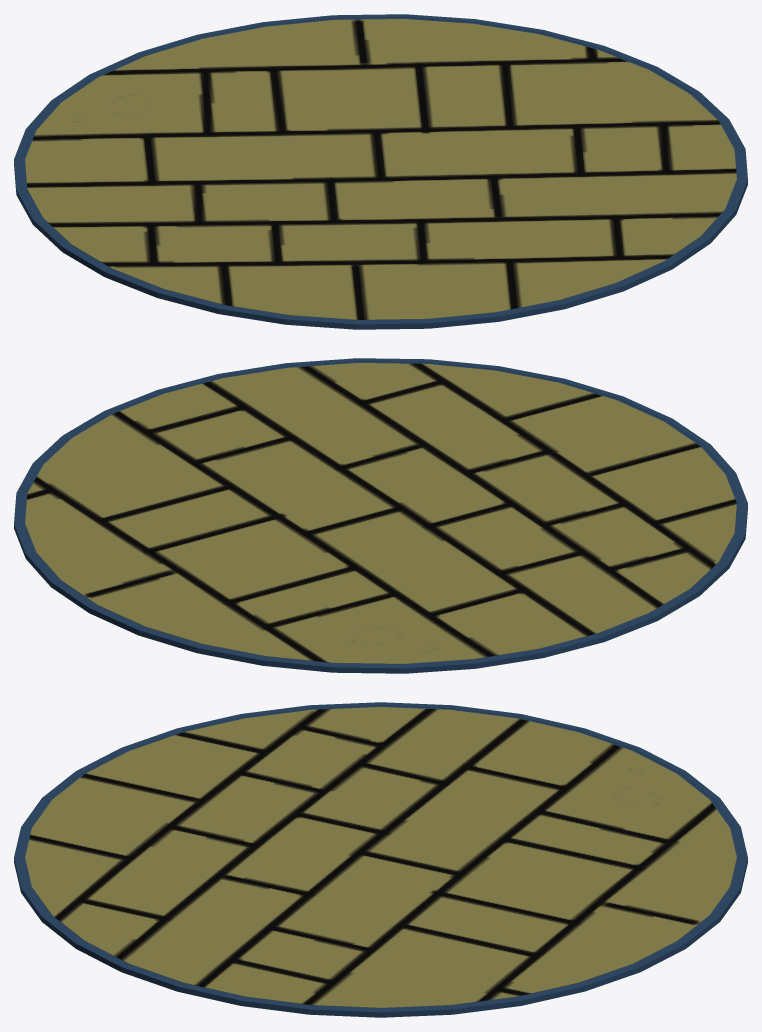
File: Floor.obj
3 views of the same model, one above another, from view 1: azimuth 30°, elevation 25°; view 2: azimuth 150°, elevation 25°; view 3: azimuth 270°, elevation 25° (orthographic).
Parts seen in each view (by area): view 1: Floor; view 2: Floor; view 3: Floor.
Boxes of the visible parts, left/top/right/bottom form: Floor: left=14, top=14, right=747, bottom=329; Floor: left=14, top=358, right=747, bottom=673; Floor: left=14, top=702, right=747, bottom=1017.
Bounding box in the file's own units: 50 × 0.4 × 50.
